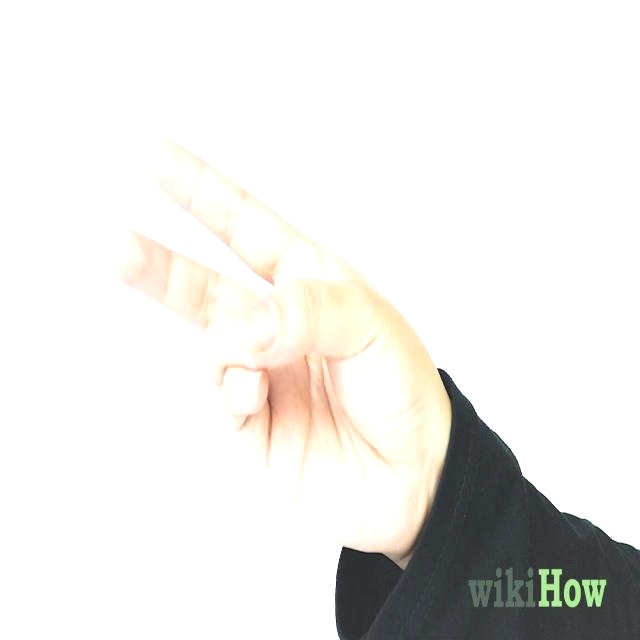Scissors: (111, 135, 441, 561)
